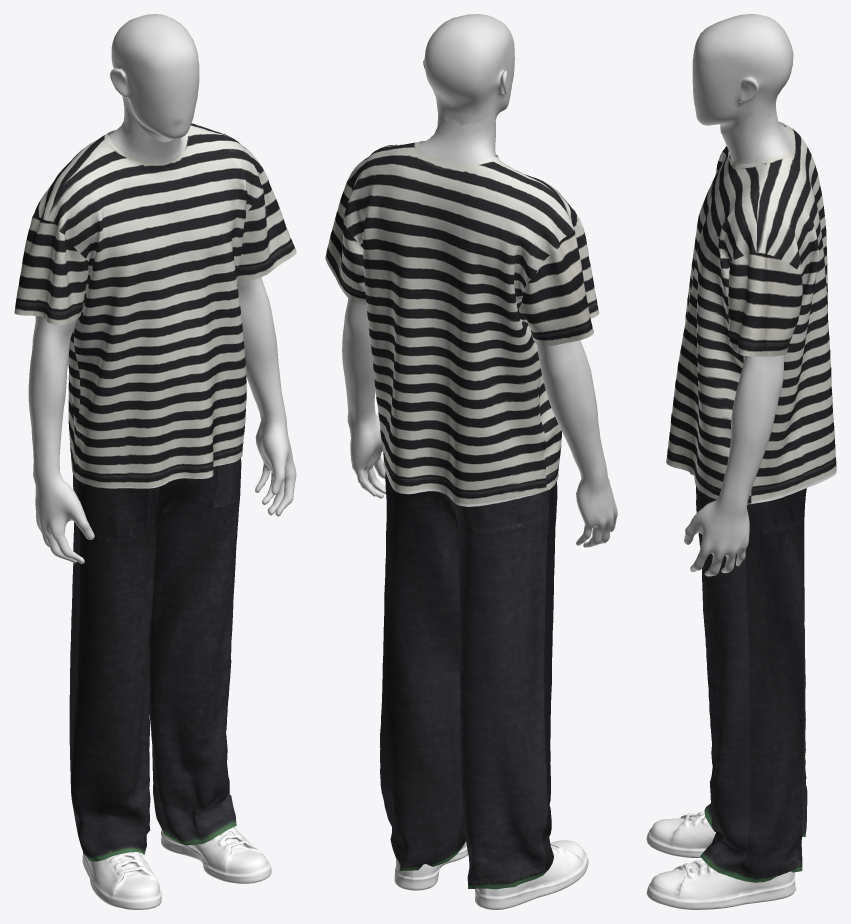
File: zara_shirt.glb
3 renders of one model, left to right at view 1: azimuth 30°, elevation 25°; view 2: azimuth 150°, elevation 25°; view 3: azimuth 270°, elevation 25°, orthographic. The views are drawn at different scales.
Parts seen in each view (by area): view 1: tshirt_3, body_3_0, shoes_r_Shape_2, shoes_l_Shape_1; view 2: tshirt_3, body_3_0, shoes_r_Shape_2, shoes_l_Shape_1; view 3: tshirt_3, body_3_0, shoes_l_Shape_1, shoes_r_Shape_2.
Boxes of the visible parts, <box> form: tshirt_3: <box>14,123,296,861</box>; body_3_0: <box>28,14,296,563</box>; shoes_r_Shape_2: <box>82,852,161,909</box>; shoes_l_Shape_1: <box>161,827,271,883</box>; tshirt_3: <box>325,141,599,889</box>; body_3_0: <box>342,14,617,547</box>; shoes_r_Shape_2: <box>475,840,588,909</box>; shoes_l_Shape_1: <box>394,841,468,890</box>; tshirt_3: <box>666,122,836,882</box>; body_3_0: <box>684,14,793,576</box>; shoes_l_Shape_1: <box>646,859,795,909</box>; shoes_r_Shape_2: <box>646,811,715,857</box>.
Size of the model in its own units: 0.6358 by 1.9 by 0.3829.
3 materials, 1 textured.
